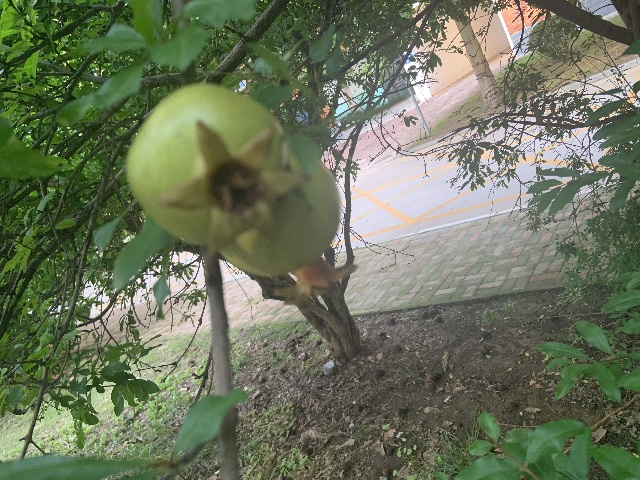mid-growth: (125, 82, 308, 273), (220, 160, 359, 307)
